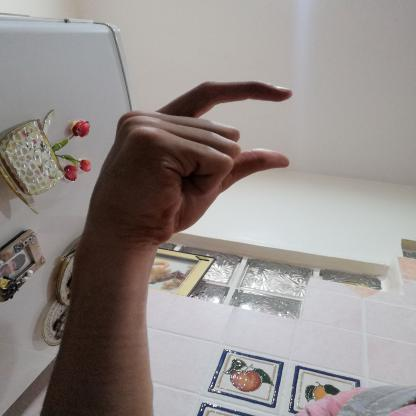DELL: (72, 70, 306, 260)
